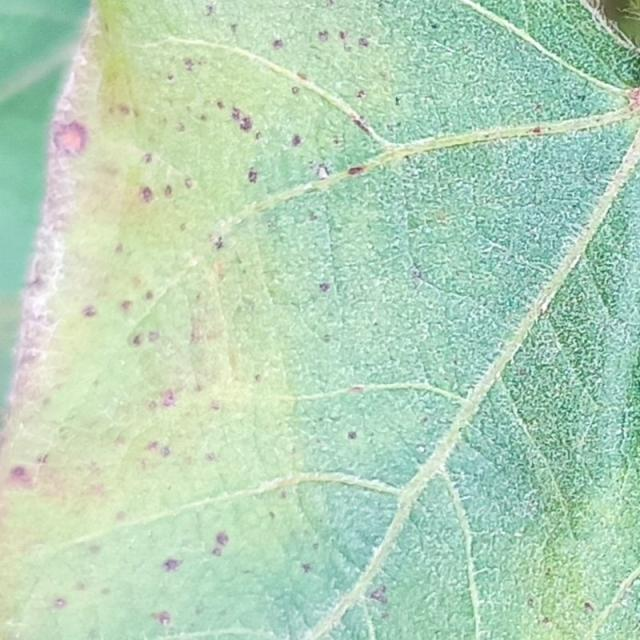Bacterial_Blight: (75, 516, 270, 636), (161, 531, 229, 579), (406, 260, 478, 299), (136, 170, 187, 207), (34, 459, 76, 495), (53, 119, 88, 156), (367, 582, 394, 626), (231, 112, 261, 137), (130, 329, 160, 348), (211, 531, 230, 557), (308, 160, 332, 180), (9, 465, 32, 485), (352, 117, 373, 136), (369, 586, 387, 604), (152, 610, 172, 626), (21, 349, 41, 365), (625, 86, 640, 107), (407, 214, 424, 232), (160, 390, 176, 407), (27, 274, 45, 289), (163, 558, 182, 572), (538, 299, 552, 317), (435, 209, 450, 224), (140, 187, 154, 203), (89, 483, 106, 496), (183, 58, 197, 72), (82, 305, 97, 318), (146, 441, 160, 454), (120, 300, 133, 313), (348, 166, 364, 176), (291, 134, 303, 147), (411, 268, 423, 281), (131, 333, 143, 346), (247, 169, 258, 183), (231, 107, 242, 121), (272, 38, 284, 50), (213, 237, 224, 250), (339, 31, 350, 44), (205, 4, 216, 17), (53, 598, 66, 609), (633, 90, 640, 110), (318, 30, 329, 42), (358, 37, 370, 48), (160, 446, 171, 458), (142, 152, 153, 164), (37, 453, 49, 464), (118, 104, 130, 115), (114, 435, 126, 446), (114, 242, 124, 255), (74, 581, 87, 591), (351, 385, 365, 394), (584, 602, 594, 614), (88, 544, 100, 554), (540, 616, 552, 626), (319, 282, 330, 292), (184, 178, 194, 189), (301, 563, 312, 573), (205, 452, 216, 462), (332, 137, 343, 147), (210, 400, 220, 411), (356, 89, 366, 99), (347, 430, 357, 440), (176, 122, 186, 132), (116, 511, 126, 521), (429, 20, 439, 30), (297, 72, 308, 81), (230, 23, 239, 34), (100, 587, 111, 596), (145, 290, 154, 300), (254, 373, 263, 383), (279, 489, 288, 499), (416, 445, 426, 454), (532, 126, 543, 134), (216, 100, 225, 109), (291, 86, 300, 95), (309, 212, 318, 221), (534, 103, 543, 112), (527, 598, 535, 608), (322, 334, 331, 342), (166, 73, 175, 81), (394, 96, 401, 106), (269, 511, 276, 520), (180, 223, 187, 232), (312, 542, 319, 551)
Cotton: (0, 0, 639, 639)
